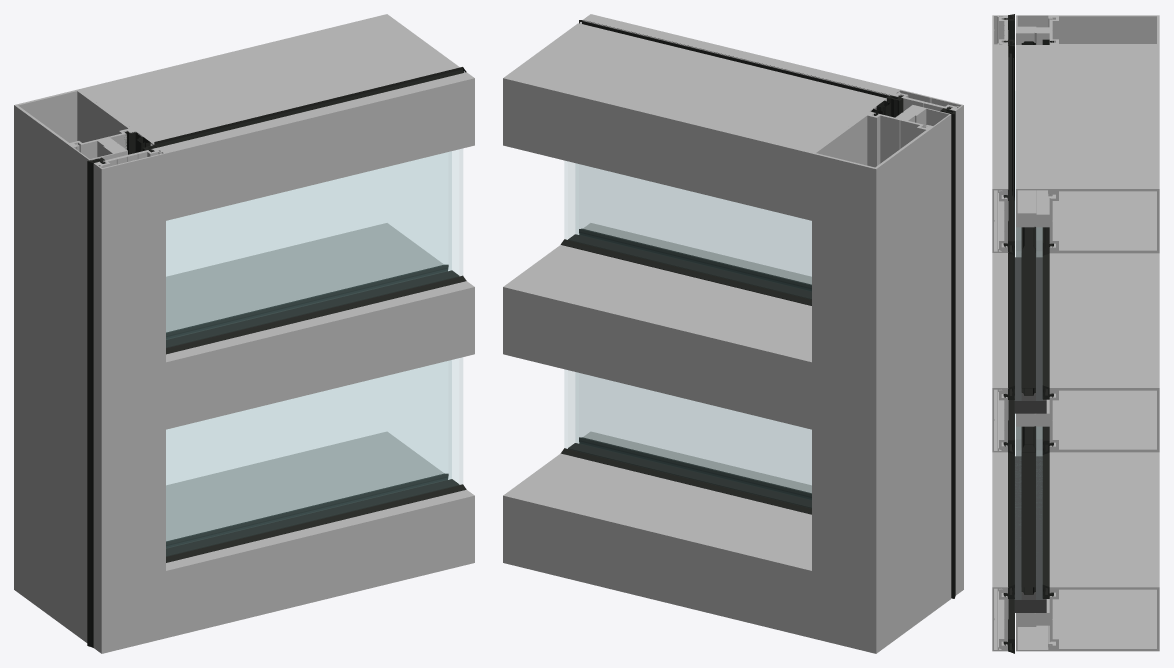
The model's file is CW250 3.875 AL Struct.glb.
The picture shows the model from 3 angles, left to right: view 1: azimuth 30°, elevation 25°; view 2: azimuth 150°, elevation 25°; view 3: azimuth 270°, elevation 25°; orthographic projection. The views are drawn at different scales.
Parts seen in each view (by area): view 1: 0_curve_.001, 0_curve_.005, 0_curve_.004, 0_curve_.003, Cube, Cube.001; view 2: 0_curve_.001, 0_curve_.005, 0_curve_.004, 0_curve_.003, Cube.001, Cube; view 3: 0_curve_.005, 0_curve_.003, 0_curve_.004, 0_curve_.001, Cube, Cube.001.
Part boxes in pixels (left/top/right/bottom): 0_curve_.001: left=14, top=89, right=165, bottom=653; 0_curve_.005: left=79, top=14, right=474, bottom=220; 0_curve_.004: left=166, top=223, right=474, bottom=429; 0_curve_.003: left=166, top=431, right=474, bottom=638; Cube: left=166, top=149, right=462, bottom=347; Cube.001: left=166, top=358, right=462, bottom=555; 0_curve_.001: left=812, top=89, right=963, bottom=653; 0_curve_.005: left=503, top=14, right=898, bottom=220; 0_curve_.004: left=503, top=223, right=811, bottom=429; 0_curve_.003: left=503, top=431, right=811, bottom=638; Cube.001: left=565, top=370, right=811, bottom=507; Cube: left=565, top=161, right=811, bottom=298; 0_curve_.005: left=992, top=42, right=1159, bottom=255; 0_curve_.003: left=992, top=452, right=1159, bottom=653; 0_curve_.004: left=992, top=253, right=1159, bottom=454; 0_curve_.001: left=992, top=14, right=1159, bottom=456; Cube: left=1015, top=91, right=1042, bottom=256; Cube.001: left=1015, top=414, right=1042, bottom=507.
Size of the model in its own units: 0.3708 by 0.4623 by 0.1499.
